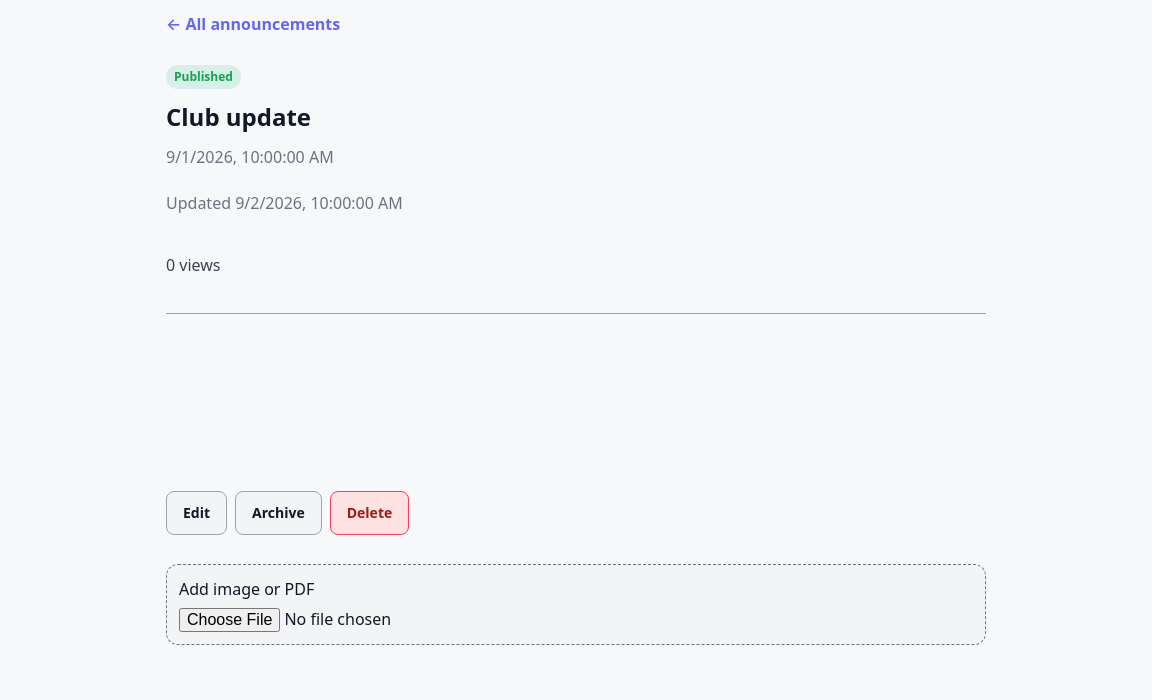
Scenario: shows the updated timestamp and explains silent published edits
Expected: the text "Updated 9/2/2026, 10:00:00 AM" is shown, 166,192 -> 403,214
Click the button "Edit": (197, 513) 166,491 -> 227,535
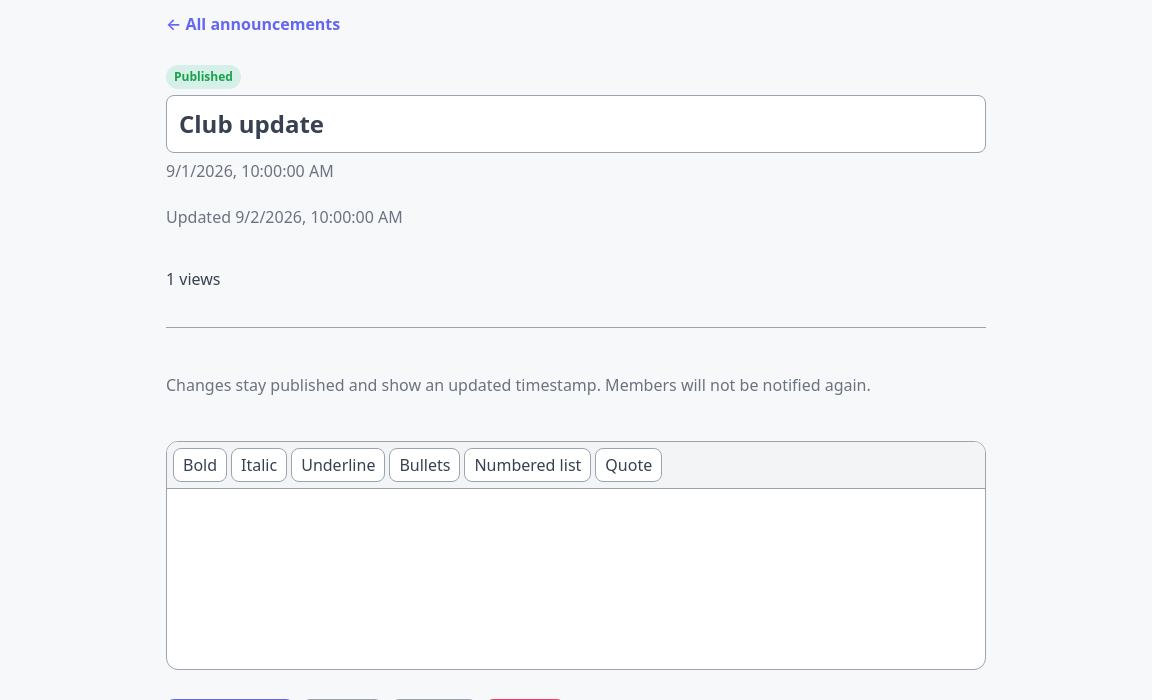
Expected: the text "Members will not be notified again" is shown, 166,374 -> 871,396
